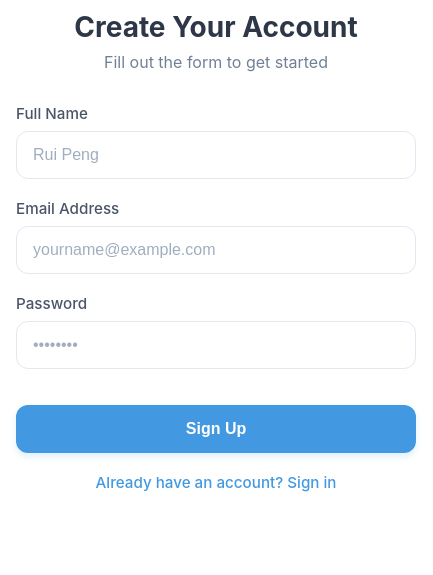
it: SignUp Component › testing whether the errors can be rendered when input nothing
What coordinates should you click on to do the following:
click the button "Sign Up"
I would click on:
 (216, 429)
Its box is [16, 405, 416, 453].
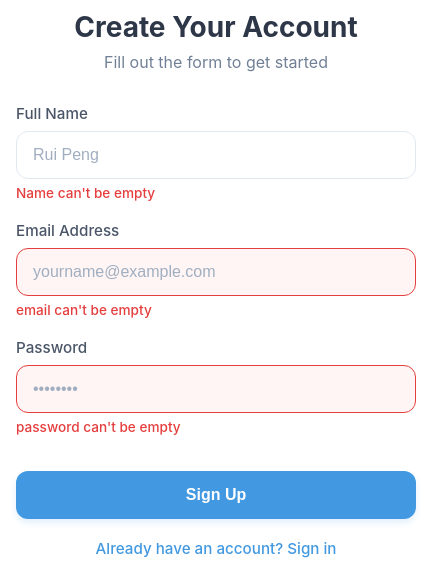
expect the text "email can't be empty" is shown: met, box [16, 302, 152, 318]
expect the text "password can't be empty" is shown: met, box [16, 419, 181, 435]
expect the text "Name can't be empty" is shown: met, box [16, 185, 155, 201]
